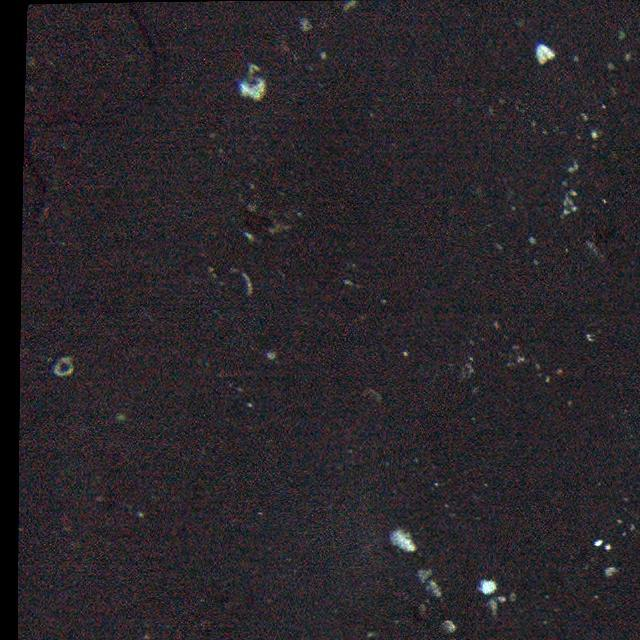eel: (30, 5, 168, 224)
